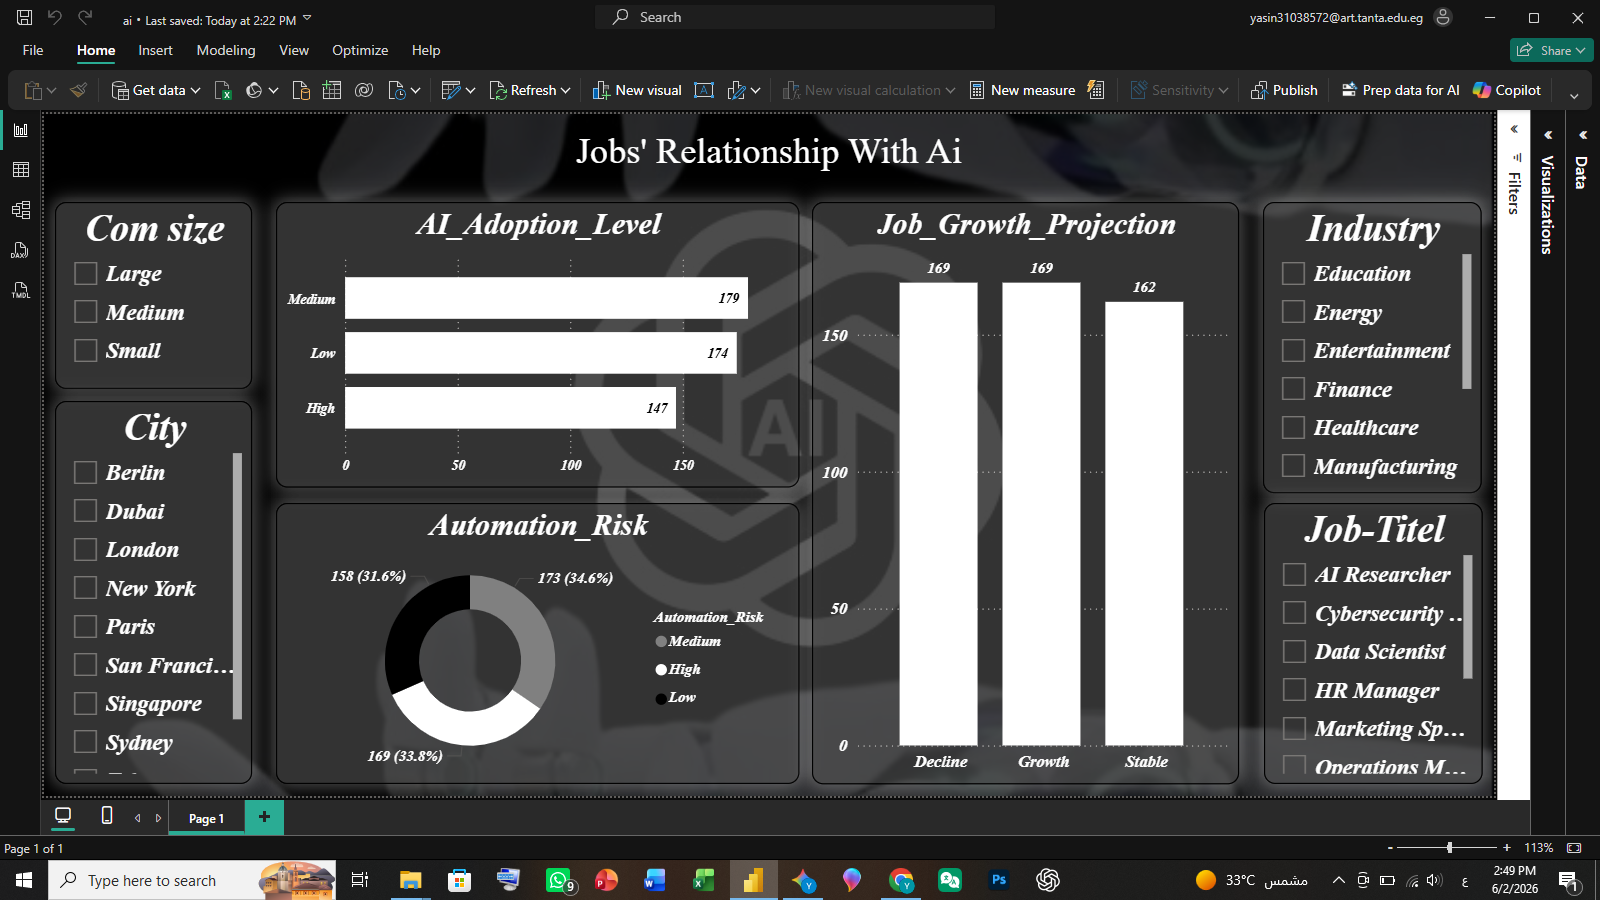

Layout of this report page (visuals, bound fields, positions):
{"tool":"powerbi","page":{"name":"Page 1","canvas":[1280,602],"ordinal":0},"visuals":[{"type":"slicer","title":"Industry","fields":{"Values":["Table1.Industry"]},"box":[1076,77.7,193.3,256.9],"z":0},{"type":"slicer","title":"Job-Titel","fields":{"Values":["Table1.Job_Title"]},"box":[1076.9,343.4,193.3,248],"z":1000},{"type":"clusteredBarChart","title":" AI_Adoption_Level","fields":{"Category":["Table1.AI_Adoption_Level"],"Y":["CountNonNull(Table1.Job_Title)"]},"box":[204.8,77.7,461.7,252.5],"z":2000},{"type":"donutChart","title":" Automation_Risk","fields":{"Category":["Table1.Automation_Risk"],"Y":["CountNonNull(Table1.Job_Title)"]},"box":[204.8,343.4,461.7,248],"z":3000},{"type":"columnChart","title":" Job_Growth_Projection","fields":{"Y":["CountNonNull(Table1.Job_Title)"],"Category":["Table1.Job_Growth_Projection"]},"box":[677.9,77.7,376.9,513.7],"z":4000},{"type":"textbox","box":[9.7,8.8,1260.5,59.1],"z":5000},{"type":"slicer","title":"Com size","fields":{"Values":["Table1.Company_Size"]},"box":[9.7,77.7,173.9,165.1],"z":6000},{"type":"slicer","title":"City","fields":{"Values":["Table1.Location"]},"box":[9.7,253.3,173.9,338.1],"z":7000}]}

Visuals, with their boxes on the page's 1280x602 design canvas (x1, y1, x2, y2). These are canvas units, not pixel positions in the 1600x900 screenshot, which may show the page scaled, cropped or inside an application window:
"Industry" slicer: 1076 78 1269 335
"Job-Titel" slicer: 1077 343 1270 591
" AI_Adoption_Level" clusteredBarChart: 205 78 666 330
" Automation_Risk" donutChart: 205 343 666 591
" Job_Growth_Projection" columnChart: 678 78 1055 591
textbox: 10 9 1270 68
"Com size" slicer: 10 78 184 243
"City" slicer: 10 253 184 591
